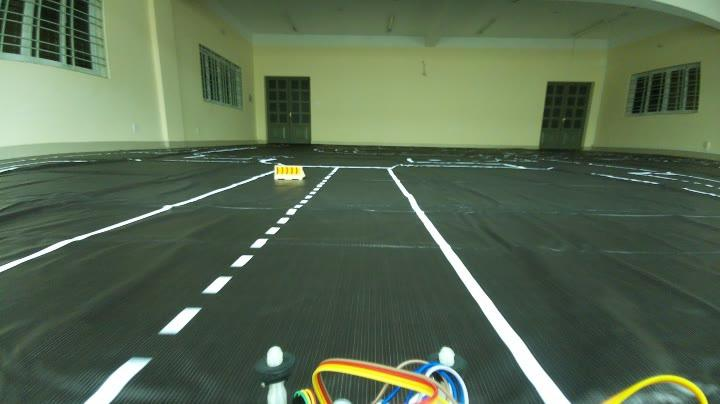roadblock: (272, 158, 310, 184)
